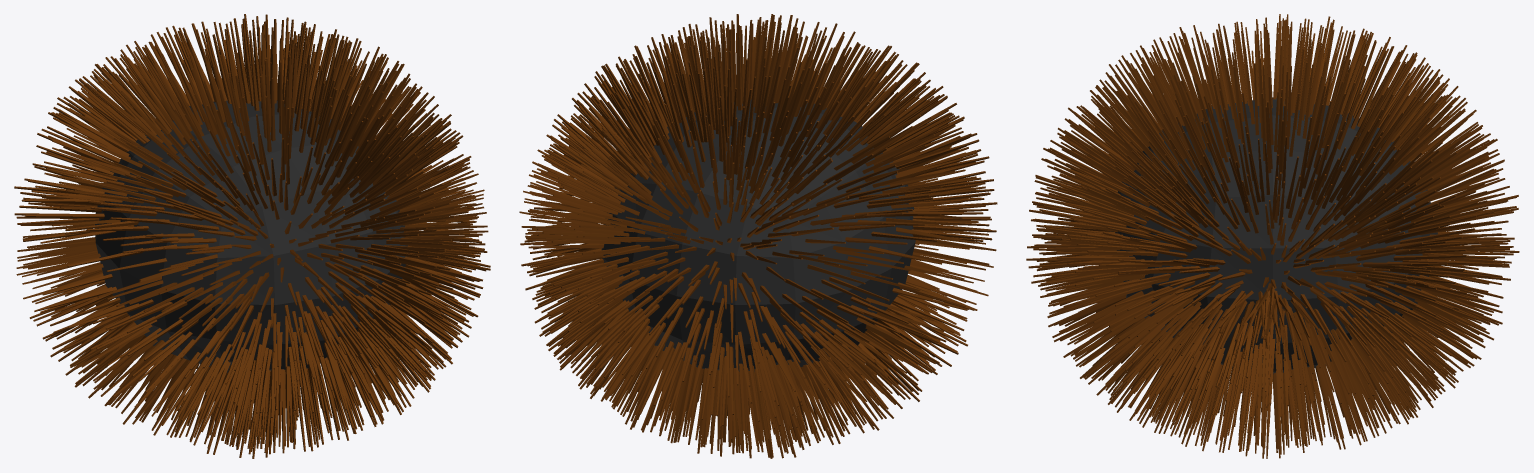
File: echinus.dae
3 renders of one model, left to right at view 1: azimuth 30°, elevation 25°; view 2: azimuth 150°, elevation 25°; view 3: azimuth 270°, elevation 25°, orthographic.
Visible parts, largest first — view 1: Seaurchin; view 2: Seaurchin; view 3: Seaurchin.
Boxes of the visible parts, <box> form: Seaurchin: <box>14,14,490,458</box>; Seaurchin: <box>519,14,997,458</box>; Seaurchin: <box>1026,14,1519,458</box>.
Bounding box in the file's own units: 0.1075 × 0.1126 × 0.0986.
